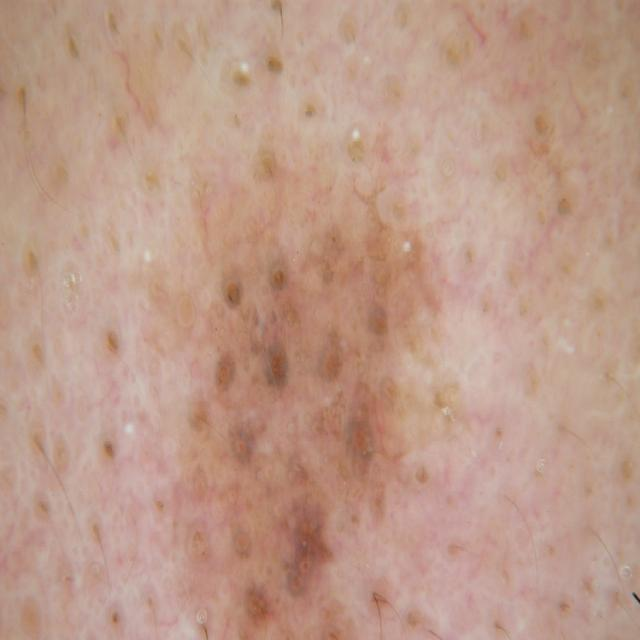Melanoma: (162, 154, 424, 640)
